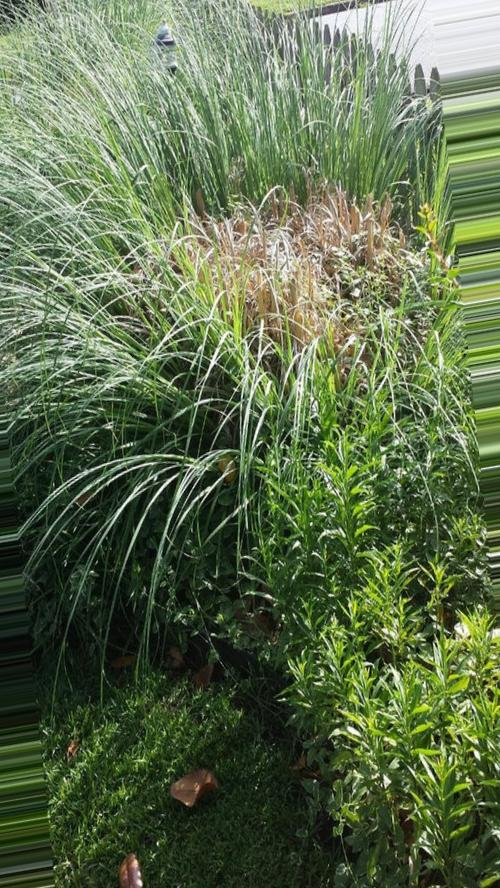patch: (205, 202, 365, 318), (166, 768, 224, 809)
